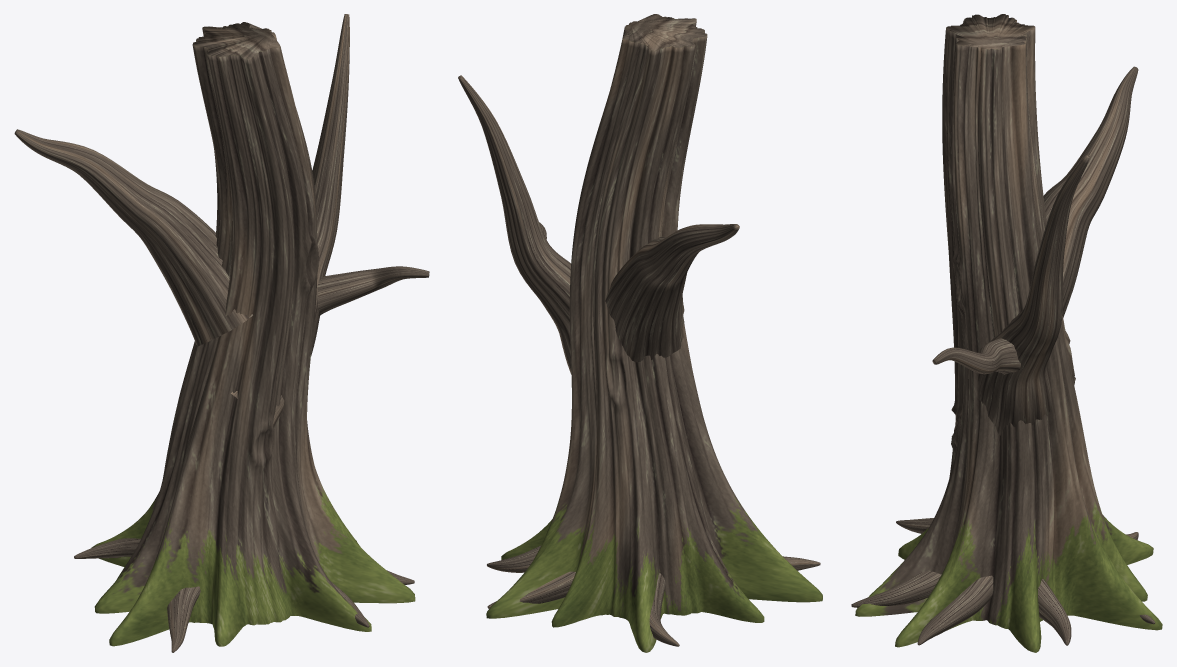
File: SM_Valley_ElderTrunk.fbx
The picture shows the model from 3 angles, left to right: view 1: azimuth 30°, elevation 25°; view 2: azimuth 150°, elevation 25°; view 3: azimuth 270°, elevation 25°; orthographic projection.
Parts seen in each view (by area): view 1: SM_Valley_ElderTrunk; view 2: SM_Valley_ElderTrunk; view 3: SM_Valley_ElderTrunk.
Part boxes in pixels (x1,y1,x2,y2): SM_Valley_ElderTrunk: (14, 14, 429, 652); SM_Valley_ElderTrunk: (458, 14, 822, 652); SM_Valley_ElderTrunk: (851, 14, 1162, 652).
Bounding box in the file's own units: 10.24 × 8.85 × 17.3.
1 material, 1 textured.
